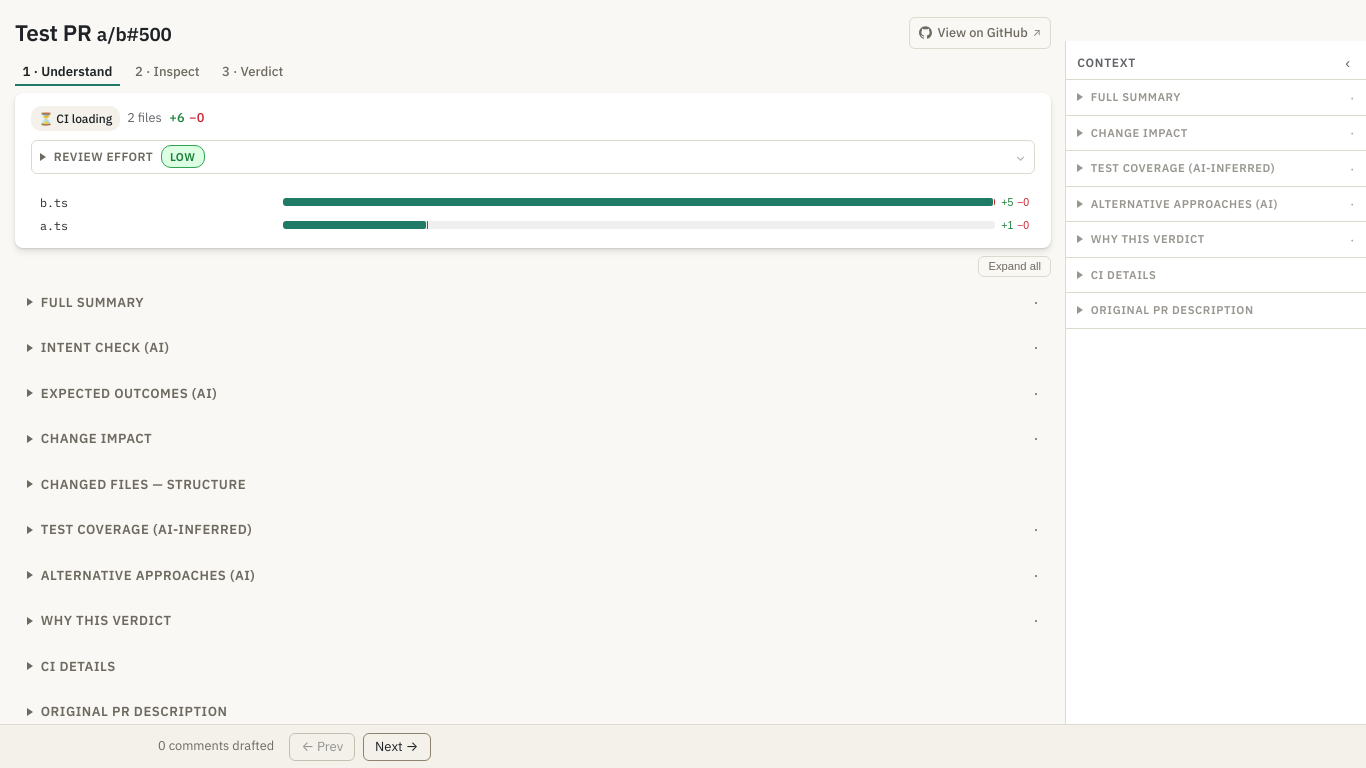
Test: Since-last-visit — toggle fetch + swap + exit › clicking "Show only changes since then" fetches compare and shows compare files
expect the message "0 comments drafted" is shown: met, box [158, 736, 274, 757]
# Navigate to step 2
Step 1. Click the button with aria-label "next step" → (397, 746), box [363, 732, 430, 760]
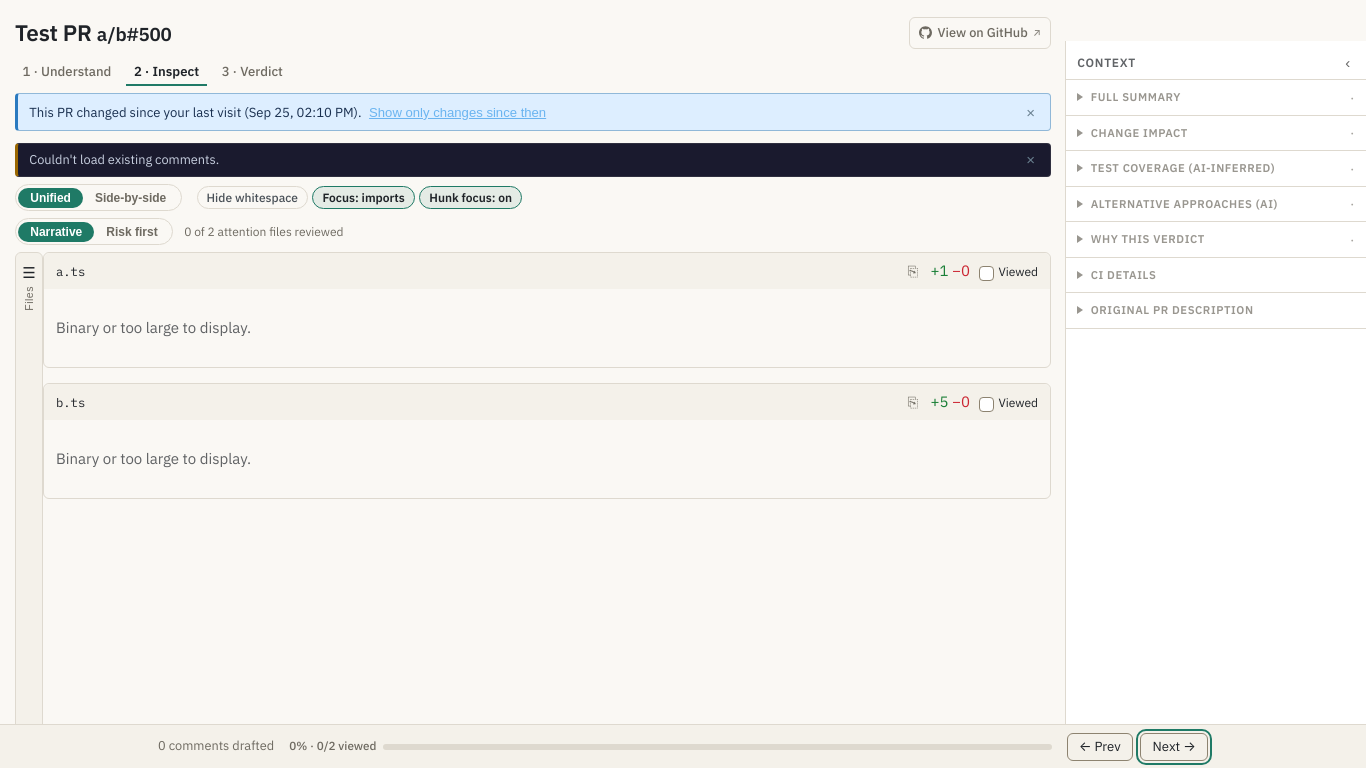
expect the text "changed since your last visit" is shown: met, box [29, 104, 362, 121]
# Click to show compare
Step 2. Click the button "Show only changes since then" → (458, 112), box [369, 105, 546, 120]
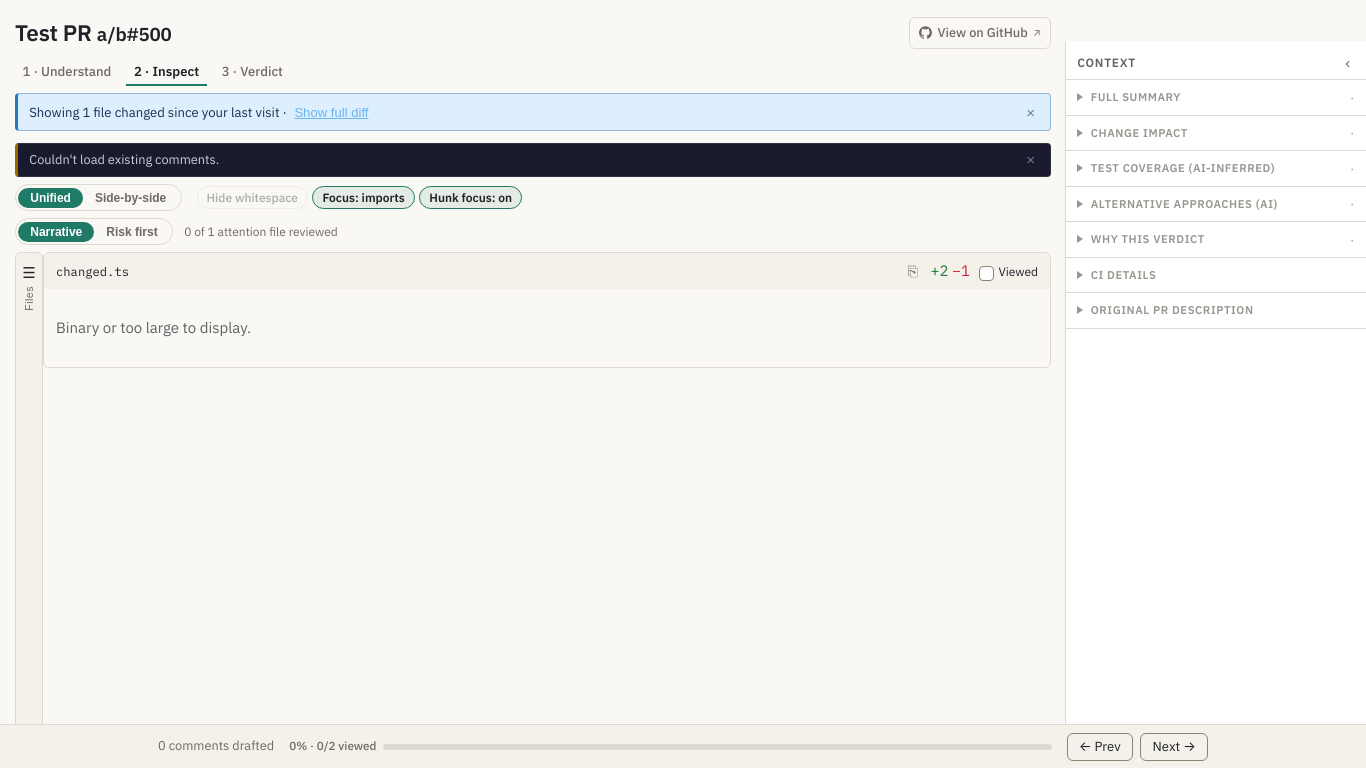
expect the text "Showing 1 file changed since your last visit · Show full diff ×" is shown: met, box [15, 93, 1051, 131]
expect the button "Show full diff" is shown: met, box [294, 105, 368, 120]
